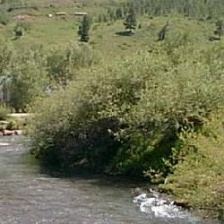neutral: (3, 1, 223, 220)
